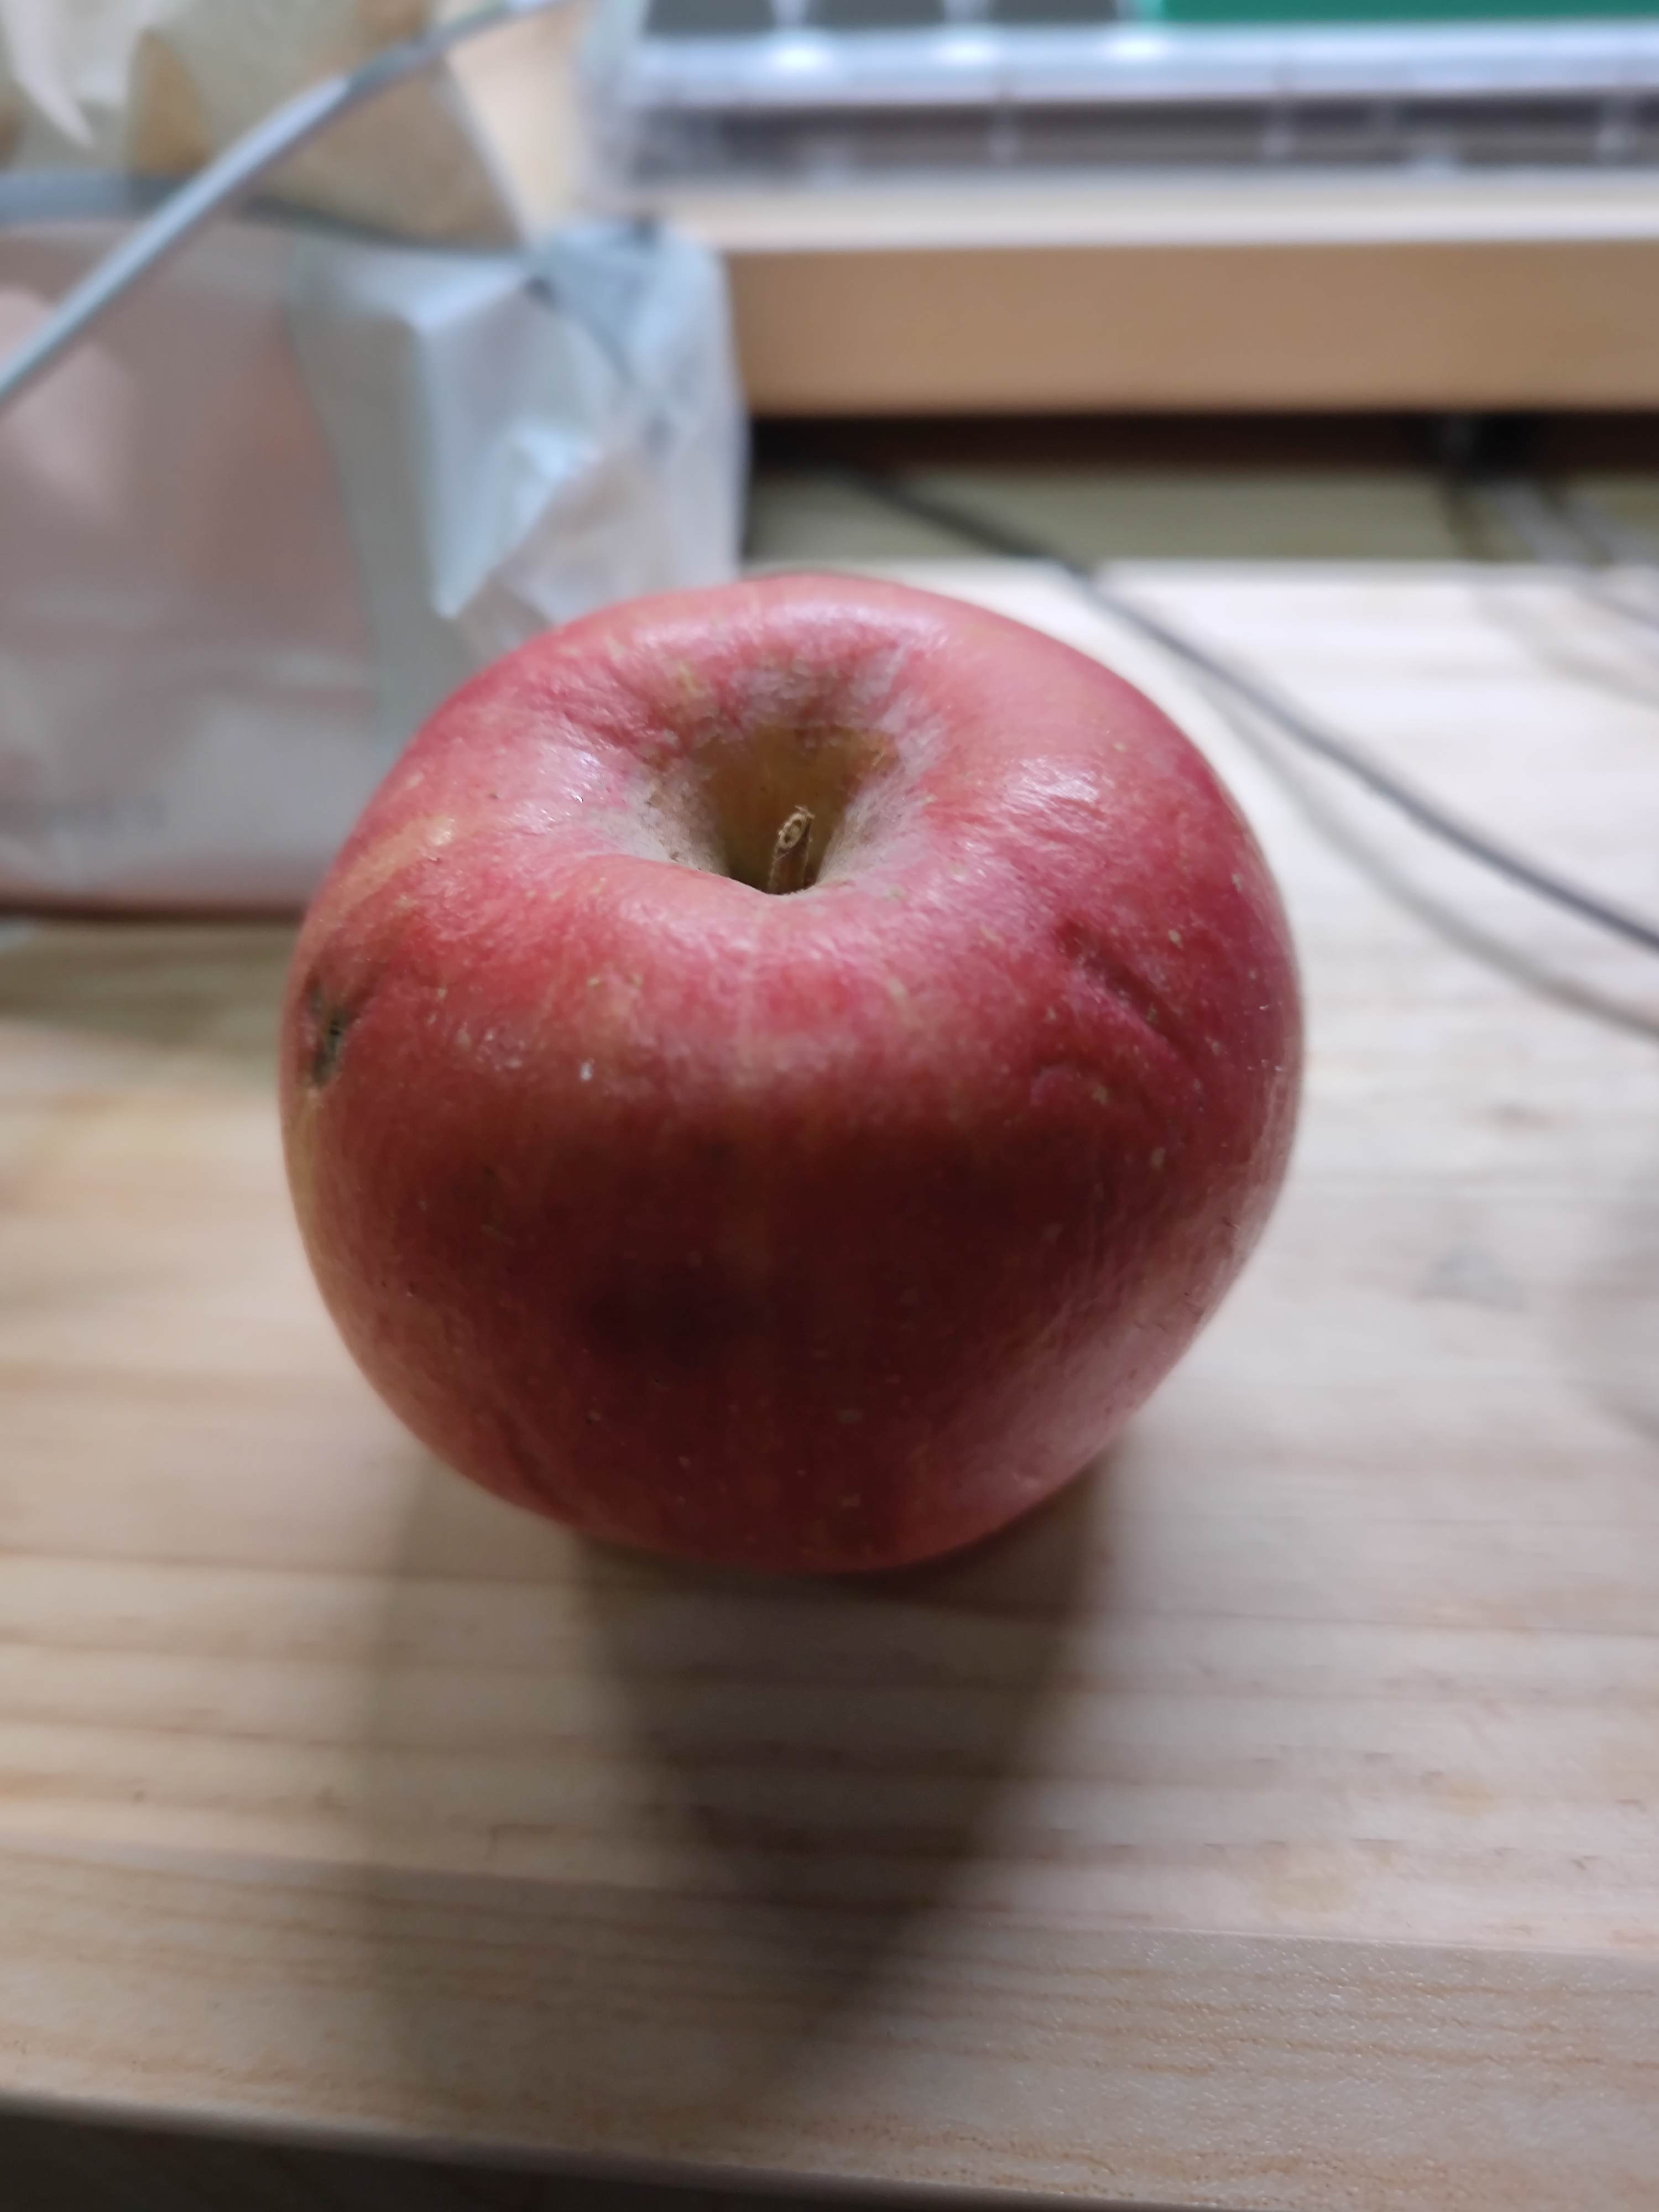apple: (275, 571, 1314, 1590)
